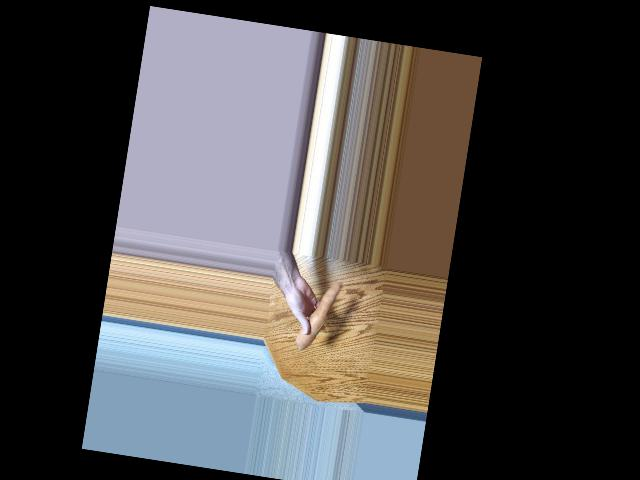sweet_potato: (302, 277, 337, 356)
